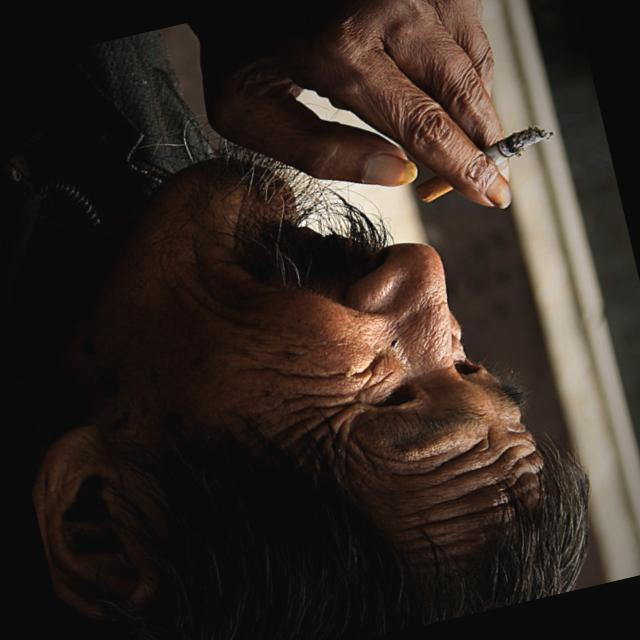cigarette: (408, 112, 566, 206)
